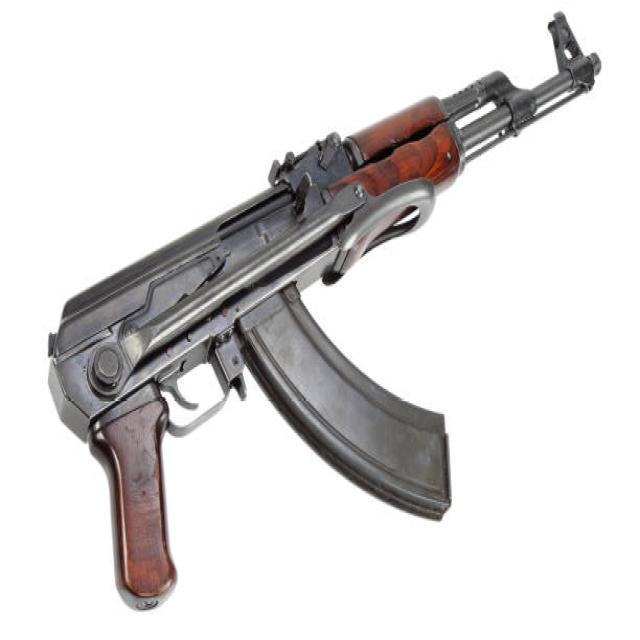rifle: (43, 6, 607, 624)
